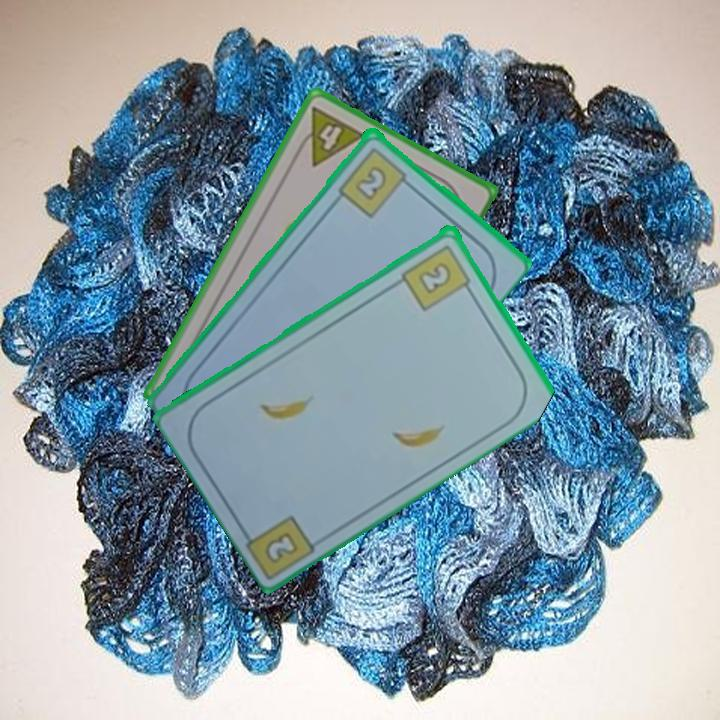2b: (334, 143, 415, 220), (398, 240, 476, 313), (261, 527, 302, 566)
4p: (290, 102, 369, 169)
